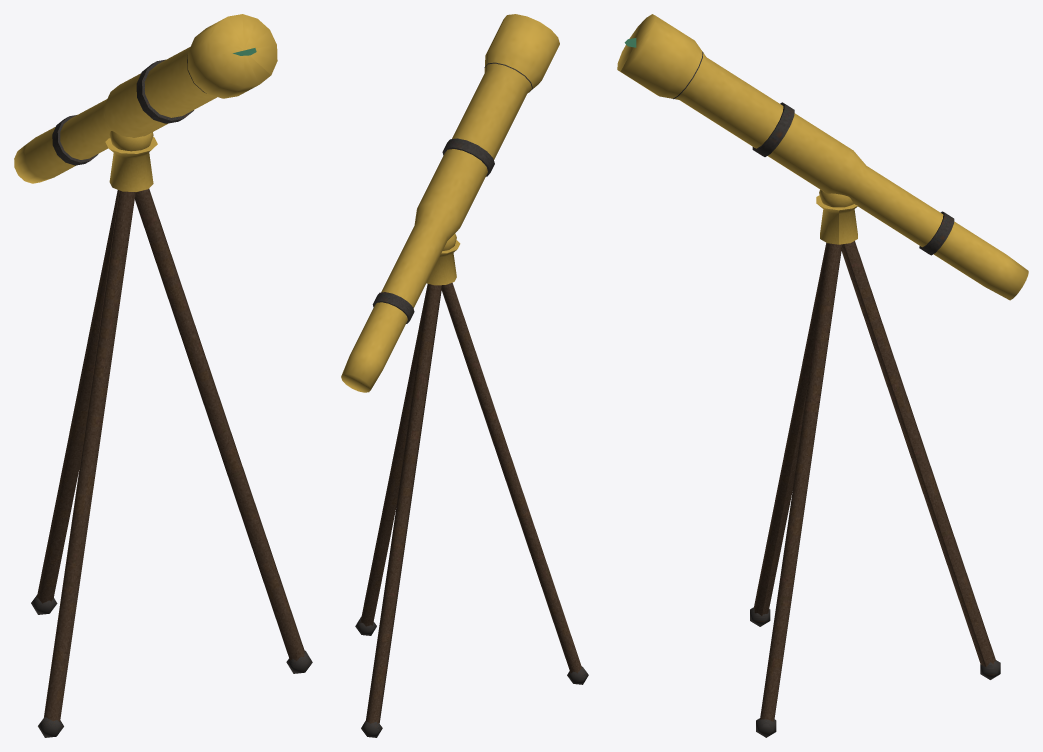
The model's file is telescope.glb.
3 views of the same model, side by side, from view 1: azimuth 30°, elevation 25°; view 2: azimuth 150°, elevation 25°; view 3: azimuth 270°, elevation 25° (orthographic). The views are drawn at different scales.
Parts seen in each view (by area): view 1: telescope; view 2: telescope; view 3: telescope.
Boxes of the visible parts, <box> form: telescope: <box>14,14,312,737</box>; telescope: <box>341,14,588,737</box>; telescope: <box>617,14,1028,737</box>.
Bounding box in the file's own units: 0.709 × 1.83 × 1.03.
1 material, 1 textured.
